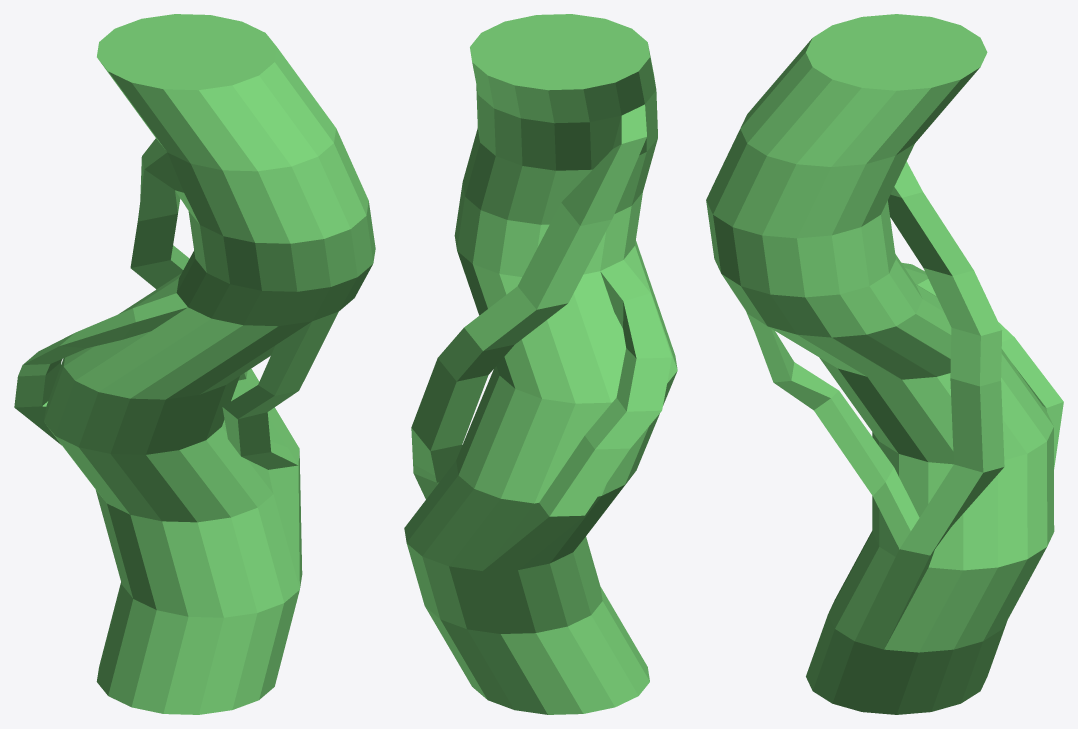
Rendered from Vine_Part.fbx.
3 views of the same model, side by side, from view 1: azimuth 30°, elevation 25°; view 2: azimuth 150°, elevation 25°; view 3: azimuth 270°, elevation 25° (orthographic).
Parts seen in each view (by area): view 1: Cylinder; view 2: Cylinder; view 3: Cylinder.
Part boxes in pixels (x1,y1,x2,y2): Cylinder: (14, 14, 375, 714); Cylinder: (404, 14, 677, 714); Cylinder: (706, 14, 1063, 714).
Bounding box in the file's own units: 76.01 × 171 × 89.
